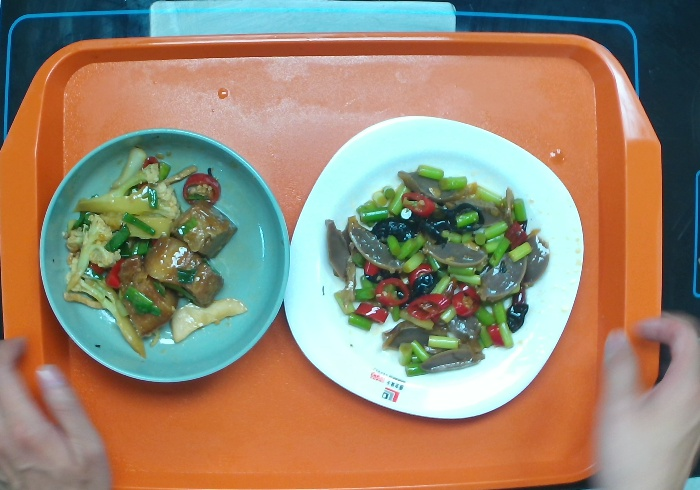ZNLD-Qing_Hua_Yuan_Wan: (37, 125, 291, 384)
ZNLD-Yuan_Jiao_Pan: (281, 113, 586, 421)
